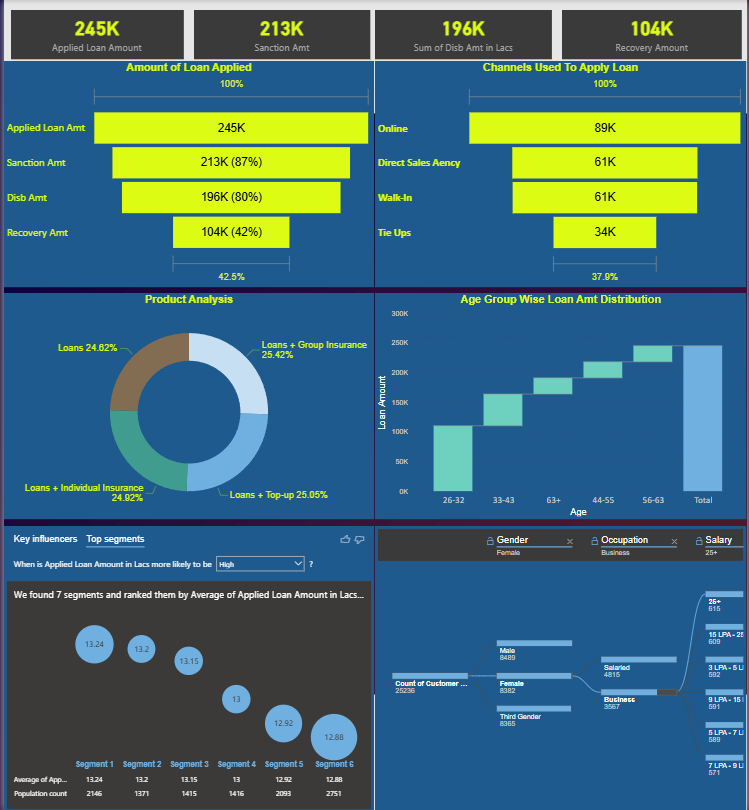

What the dashboard file says about the page in this screenshot:
{"tool":"powerbi","page":{"name":"Page 2","canvas":[1280,1400],"ordinal":1},"visuals":[{"type":"advanceCardE03760C5AB684758B56AA29F9E6C257B","fields":{"mainMeasure":["Sum(Customer.Applied Loan Amount in Lacs)"]},"box":[11.2,17.5,297.5,85],"z":0},{"type":"advanceCardE03760C5AB684758B56AA29F9E6C257B","fields":{"mainMeasure":["Sum(Sanction Data.Sanction Amt in Lacs)"]},"box":[327.5,17.5,303.8,85],"z":1000},{"type":"advanceCardE03760C5AB684758B56AA29F9E6C257B","fields":{"mainMeasure":["Sum(Sanction Data.Disb Amt in Lacs)"]},"box":[640,17.5,305,85],"z":2000},{"type":"advanceCardE03760C5AB684758B56AA29F9E6C257B","fields":{"mainMeasure":["Sum(Recovery Data.Recovery Amount)"]},"box":[961.2,17.5,310,85],"z":3000},{"type":"funnel","title":"Amount of Loan Applied","fields":{"Y":["Sum(Customer.Applied Loan Amount in Lacs)","Sum(Sanction Data.Sanction Amt in Lacs)","Sum(Sanction Data.Disb Amt in Lacs)","Sum(Recovery Data.Recovery Amount)"]},"box":[0,105.2,637.9,389.7],"z":4000},{"type":"waterfallChart","title":"Age Group Wise Loan Amt Distribution","fields":{"Category":["Customer.Age"],"Y":["Sum(Customer.Applied Loan Amount in Lacs)"]},"box":[640,505,640,390],"z":5000},{"type":"funnel","title":"Channels Used To Apply Loan","fields":{"Y":["Sum(Customer.Applied Loan Amount in Lacs)"],"Category":["Channel.Channels"]},"box":[640,105,640,390],"z":6000},{"type":"donutChart","title":"Product Analysis","fields":{"Category":["Product.Products"],"Y":["Sum(Customer.Applied Loan Amount in Lacs)"]},"box":[0,505.2,637.9,389.7],"z":7000},{"type":"keyDriversVisual","title":"Product","fields":{"ExplainBy":["Customer.Occupation","Customer.Age","Customer.Salary","Customer.Gender","Branch.Branch Name","Channel.Channels","Product.Products"],"Target":["Customer.Applied Loan Amount in Lacs"]},"box":[0,906.9,637.9,493.1],"z":8000},{"type":"decompositionTreeVisual","title":"Product","fields":{"ExplainBy":["Customer.Gender","Customer.Occupation","Customer.Salary","Product.Products","Customer.Applied Loan Amount in Lacs","Channel.Channels","Branch.Branch Name"],"Analyze":["CountNonNull(Customer.Customer Number)"]},"box":[639.7,906.9,639.7,493.1],"z":10000}]}

Visuals, with their boxes in screenshot pixels (x1, y1, x2, y2), scaled from the page's 1280x1400 canvas onto the 749x810 screenshot:
advanceCardE03760C5AB684758B56AA29F9E6C257B - Sum(Customer.Applied Loan Amount in Lacs): Rect(7, 10, 181, 59)
advanceCardE03760C5AB684758B56AA29F9E6C257B - Sum(Sanction Data.Sanction Amt in Lacs): Rect(192, 10, 369, 59)
advanceCardE03760C5AB684758B56AA29F9E6C257B - Sum(Sanction Data.Disb Amt in Lacs): Rect(374, 10, 553, 59)
advanceCardE03760C5AB684758B56AA29F9E6C257B - Sum(Recovery Data.Recovery Amount): Rect(562, 10, 744, 59)
"Amount of Loan Applied" funnel: Rect(0, 61, 373, 286)
"Age Group Wise Loan Amt Distribution" waterfallChart: Rect(374, 292, 748, 518)
"Channels Used To Apply Loan" funnel: Rect(374, 61, 748, 286)
"Product Analysis" donutChart: Rect(0, 292, 373, 518)
"Product" keyDriversVisual: Rect(0, 525, 373, 809)
"Product" decompositionTreeVisual: Rect(374, 525, 748, 809)
